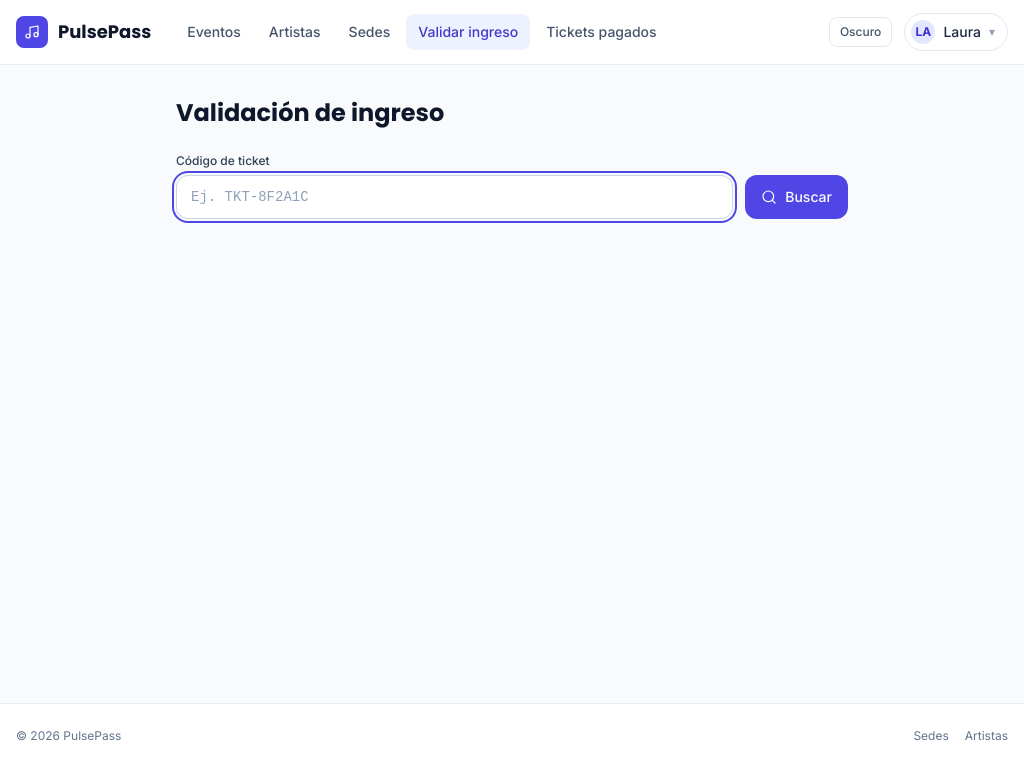
Scenario: 21.5 STAFF y ADMIN (TEST-FE-STF-* y TEST-FE-ADM-*) › TEST-FE-STF-001: validar ingreso busca ticket y lo marca como usado con éxito
Type "TKT-8F2A1C" into the field labelled "Código de ticket".
click(455, 197); type("TKT-8F2A1C")  # box [176,175,733,219]
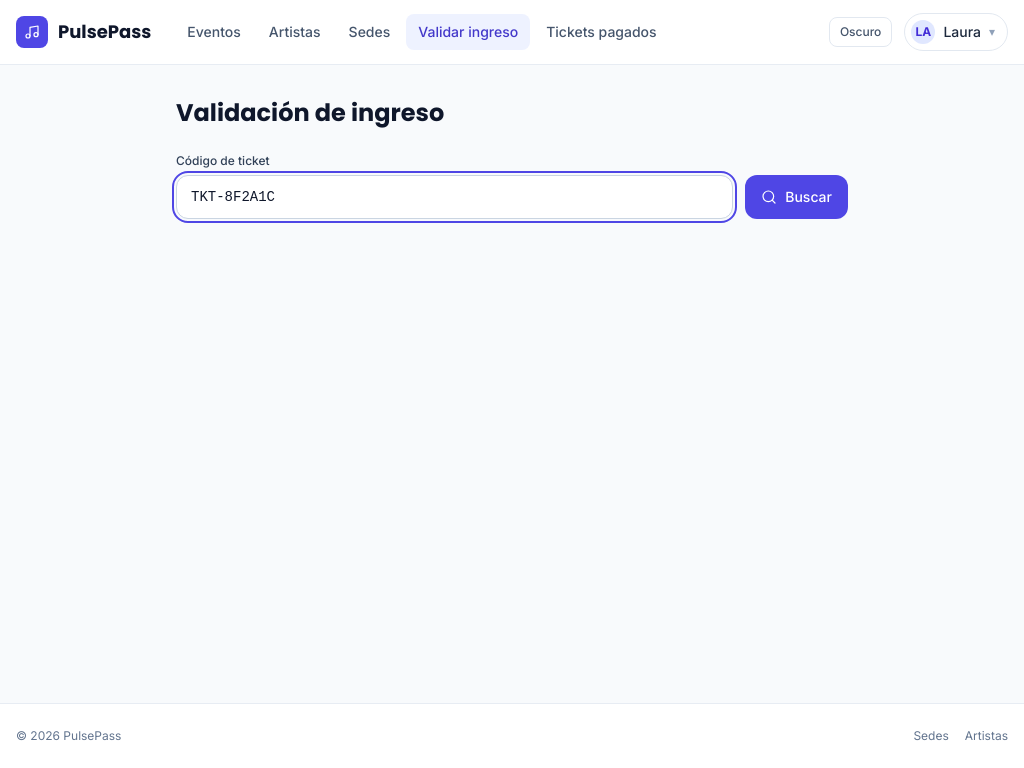
Click the button "Buscar".
click(797, 197)  # box [745,175,848,219]
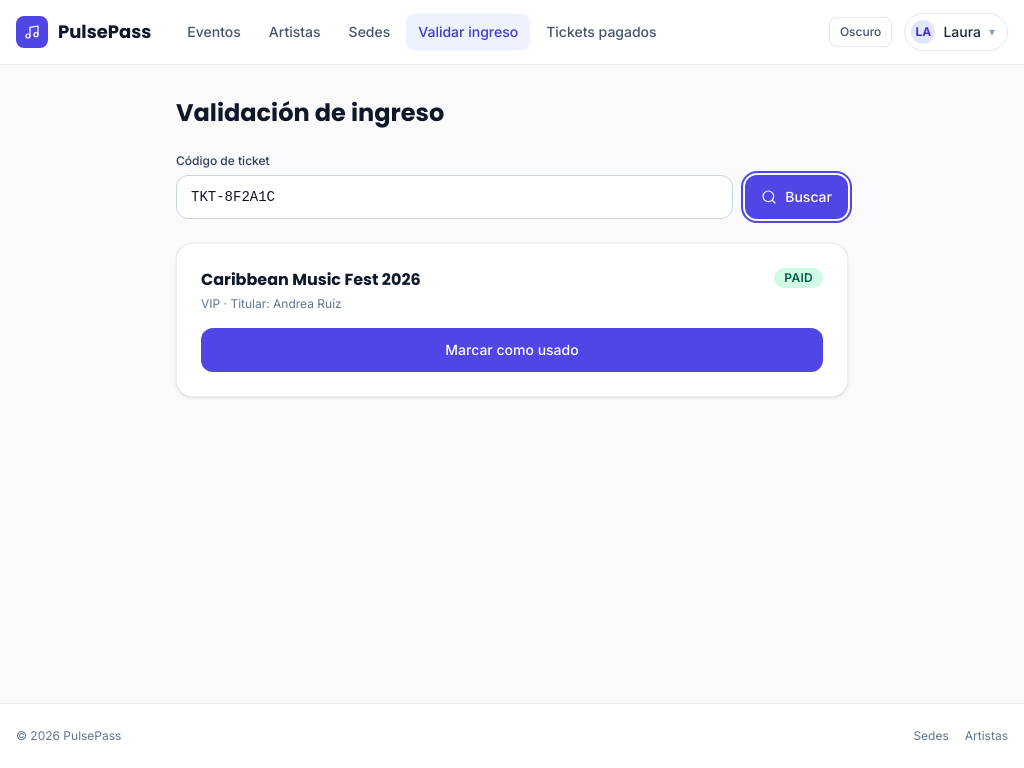
Click the button "Marcar como usado".
click(512, 350)  # box [201,328,823,372]
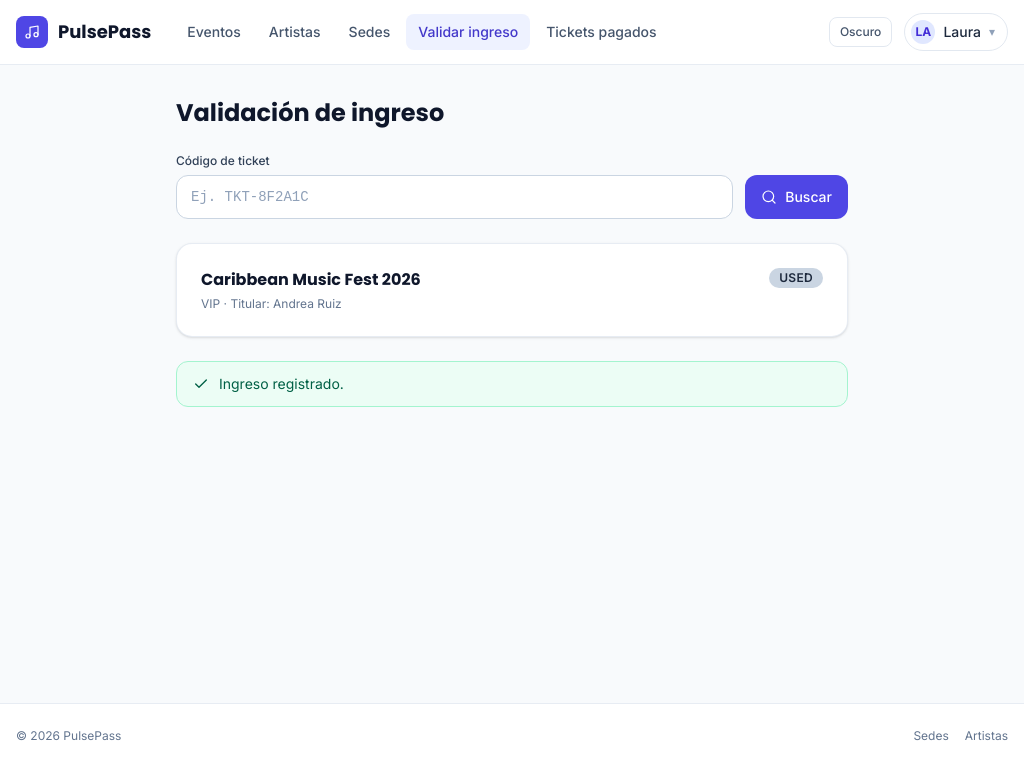
Result: the text "Ingreso registrado." is shown at [219,374,344,394]
Result: the text "USED" is shown at [769,268,823,288]
